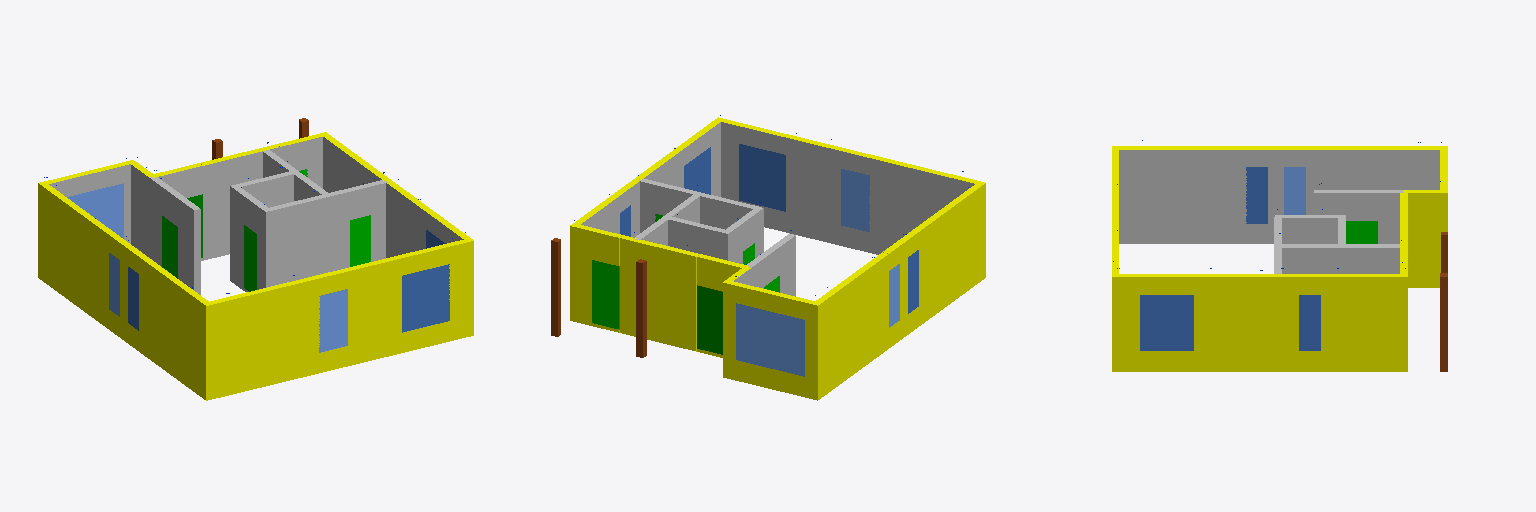
The model's file is 1_objects_wall_coordinates_inverted_3d.obj.
The picture shows the model from 3 angles: view 1: azimuth 30°, elevation 25°; view 2: azimuth 150°, elevation 25°; view 3: azimuth 270°, elevation 25°; orthographic projection.
Visible parts, largest first — view 1: Building_Outline_Merged, Internal_Wall_wall_junction_7_to_8_left, External_window_window_2, Internal_Wall_wall_door_3_top_30_to_-100030_edge, Internal_Wall_wall_door_4_right_21_to_8, Internal_window_window_4, Internal_window_window_1, Internal_Wall_wall_door_5_bottom_34_to_1, Fill_Above_window_1, Internal_Wall_wall_junction_1_to_12_left, Internal_Wall_wall_door_4_left_15_to_11, Internal_Wall_wall_door_3_bottom_36_to_9 (+17 smaller); view 2: Building_Outline_Merged, Internal_window_window_1, External_window_window_2, Internal_door_door_2, Internal_Wall_wall_junction_1_to_12_left, External_door_door_1, Internal_window_window_4, Fill_Above_window_1, Fill_Below_window_1, Internal_Wall_wall_junction_7_to_8_left, Pillar_P2, Fill_Above_door_1 (+16 smaller); view 3: Building_Outline_Merged, External_window_window_3, Internal_Wall_wall_junction_8_to_12_down, Internal_Wall_wall_junction_10_to_12_up, External_window_window_5, External_window_window_7, Internal_Wall_wall_door_3_bottom_36_to_9, Fill_Below_window_3, Fill_Above_window_3, Internal_window_window_6, Fill_Above_door_3, Internal_Wall_wall_door_3_top_30_to_-100030_edge (+4 smaller).
Boxes of the visible parts, box(x1,y1,x2,y2) form: Building_Outline_Merged: box(38, 132, 473, 400); Internal_Wall_wall_junction_7_to_8_left: box(269, 194, 328, 286); External_window_window_2: box(402, 264, 449, 332); Internal_Wall_wall_door_3_top_30_to_-100030_edge: box(178, 197, 200, 294); Internal_Wall_wall_door_4_right_21_to_8: box(326, 189, 349, 271); Internal_window_window_4: box(319, 289, 347, 352); Internal_window_window_1: box(67, 183, 123, 238); Internal_Wall_wall_door_5_bottom_34_to_1: box(230, 184, 250, 290); Fill_Above_window_1: box(53, 163, 123, 196); Internal_Wall_wall_junction_1_to_12_left: box(236, 171, 293, 207); Internal_Wall_wall_door_4_left_15_to_11: box(368, 180, 387, 261); Internal_Wall_wall_door_3_bottom_36_to_9: box(149, 177, 167, 266); Building_Outline_Merged: box(570, 117, 985, 400); Internal_window_window_1: box(736, 303, 804, 376); External_window_window_2: box(739, 144, 785, 211); Internal_door_door_2: box(592, 260, 619, 329); Internal_Wall_wall_junction_1_to_12_left: box(668, 217, 727, 258); External_door_door_1: box(697, 285, 722, 354); Internal_window_window_4: box(841, 169, 869, 231); Fill_Above_window_1: box(736, 283, 807, 319); Fill_Below_window_1: box(736, 360, 804, 396); Internal_Wall_wall_junction_7_to_8_left: box(699, 193, 758, 229); Pillar_P2: box(636, 259, 646, 357); Fill_Above_door_1: box(697, 254, 738, 291); Building_Outline_Merged: box(1112, 146, 1447, 371); External_window_window_3: box(1140, 295, 1193, 350); Internal_Wall_wall_junction_8_to_12_down: box(1282, 244, 1342, 273); Internal_Wall_wall_junction_10_to_12_up: box(1343, 244, 1399, 273); External_window_window_5: box(1246, 167, 1267, 223); External_window_window_7: box(1299, 295, 1320, 350); Internal_Wall_wall_door_3_bottom_36_to_9: box(1378, 190, 1403, 243); Fill_Below_window_3: box(1140, 351, 1193, 371); Fill_Above_window_3: box(1140, 274, 1193, 294); Internal_window_window_6: box(1284, 167, 1305, 214); Fill_Above_door_3: box(1346, 190, 1377, 220); Internal_Wall_wall_door_3_top_30_to_-100030_edge: box(1314, 190, 1345, 214).
Bounding box in the file's own units: 8.87 × 3.2 × 9.65.